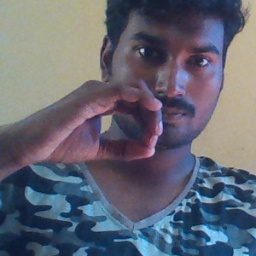O: (23, 72, 165, 173)
